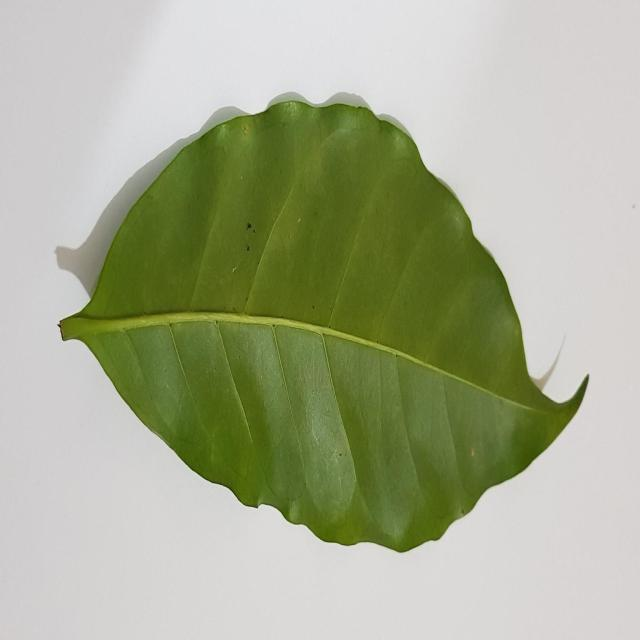nodisease: (58, 94, 588, 552)
